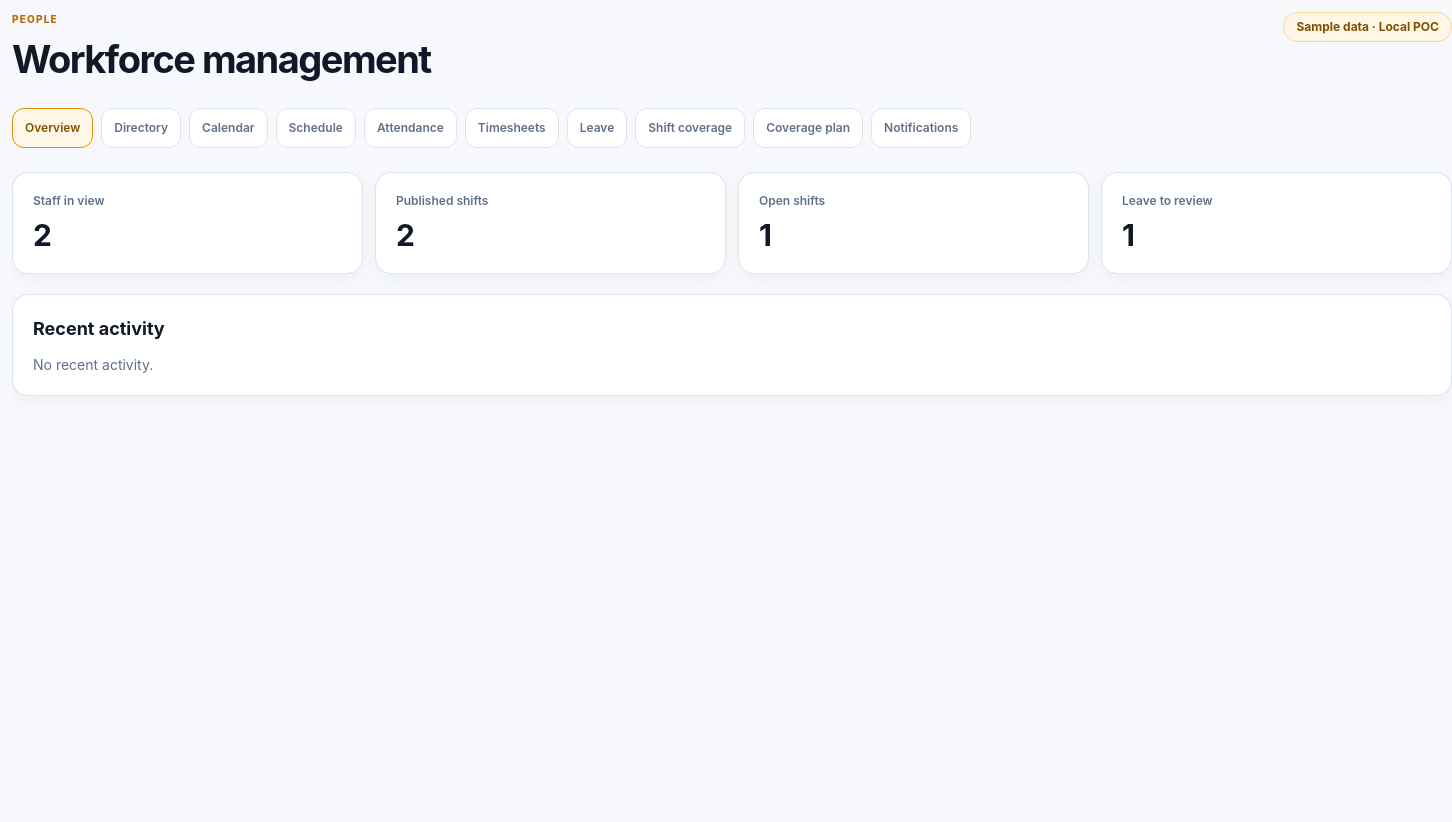
local workforce POC › shows calendar shifts and a target-free coverage plan
Click the button "Calendar": (228, 128) [189, 108, 268, 148]
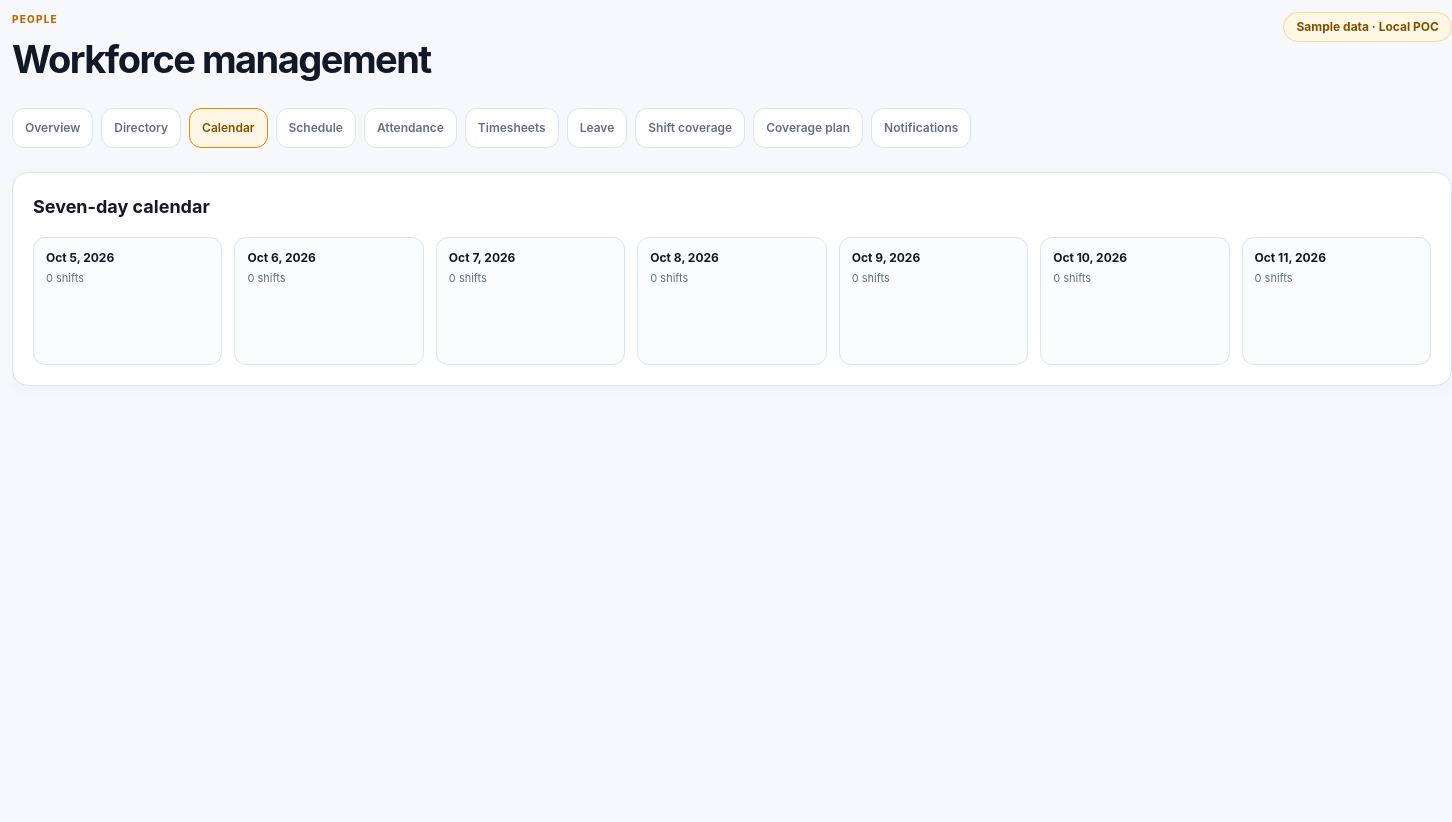
Check: the heading "Seven-day calendar" is shown, box [33, 196, 210, 217]
Click the button "Coverage plan": (808, 128) [753, 108, 863, 148]
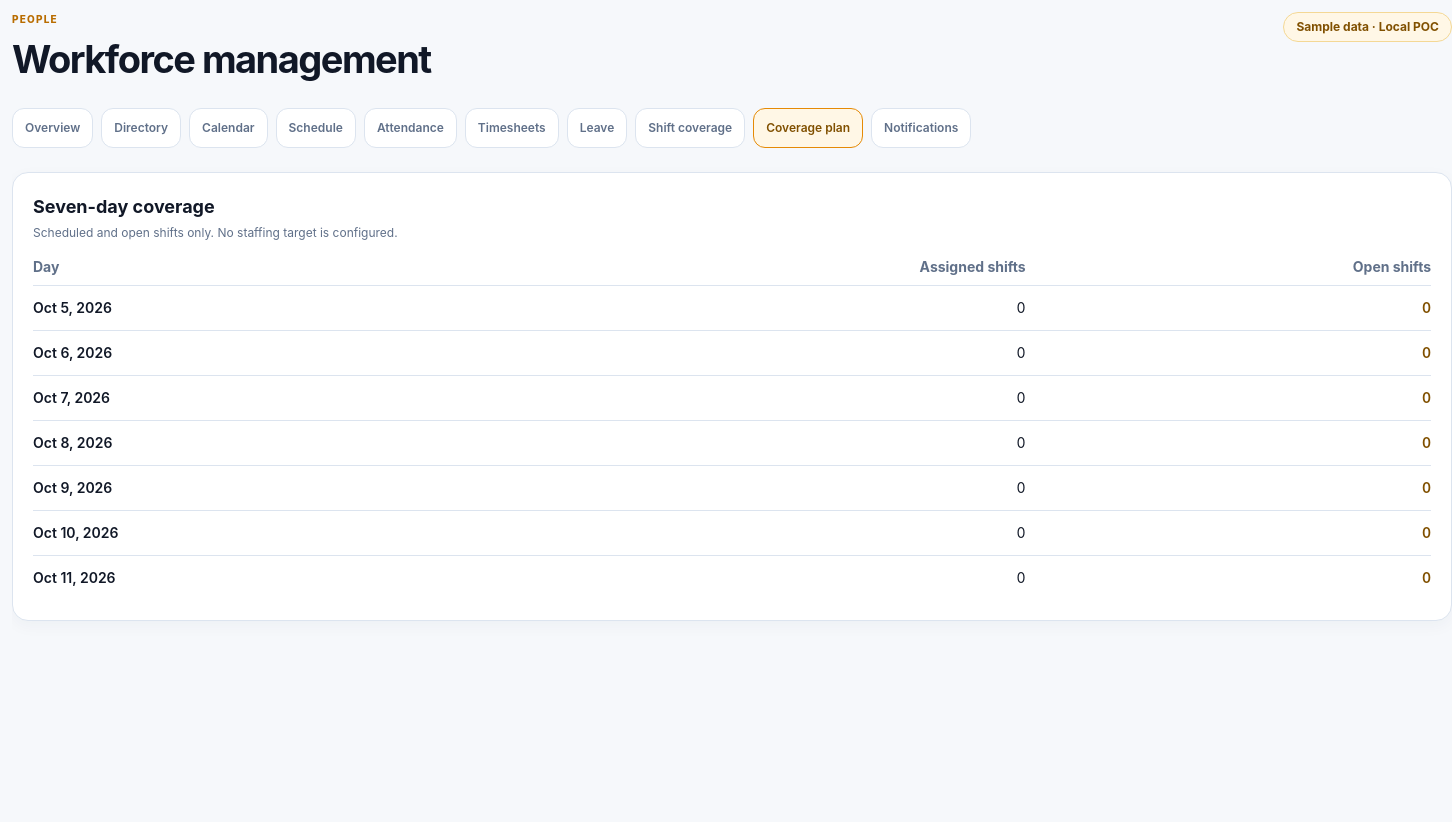
Check: the heading "Seven-day coverage" is shown, box [33, 196, 215, 217]
Check: the text "No staffing target is configured" is shown, box [33, 225, 398, 240]
